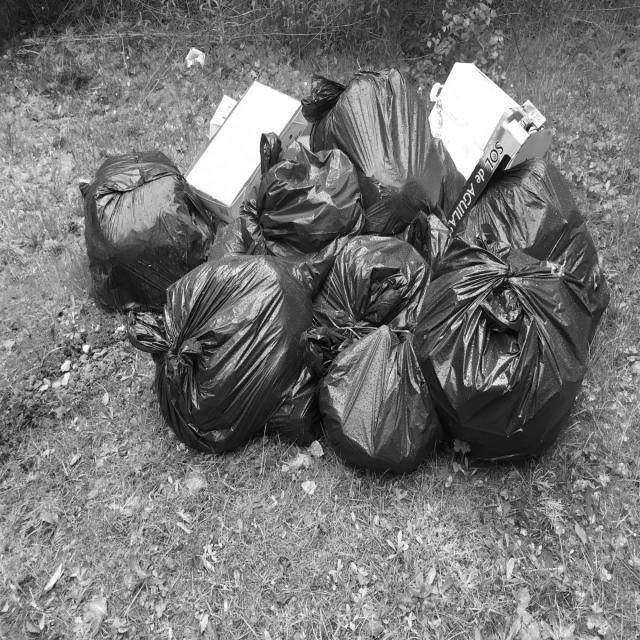high trash: (82, 64, 609, 472)
